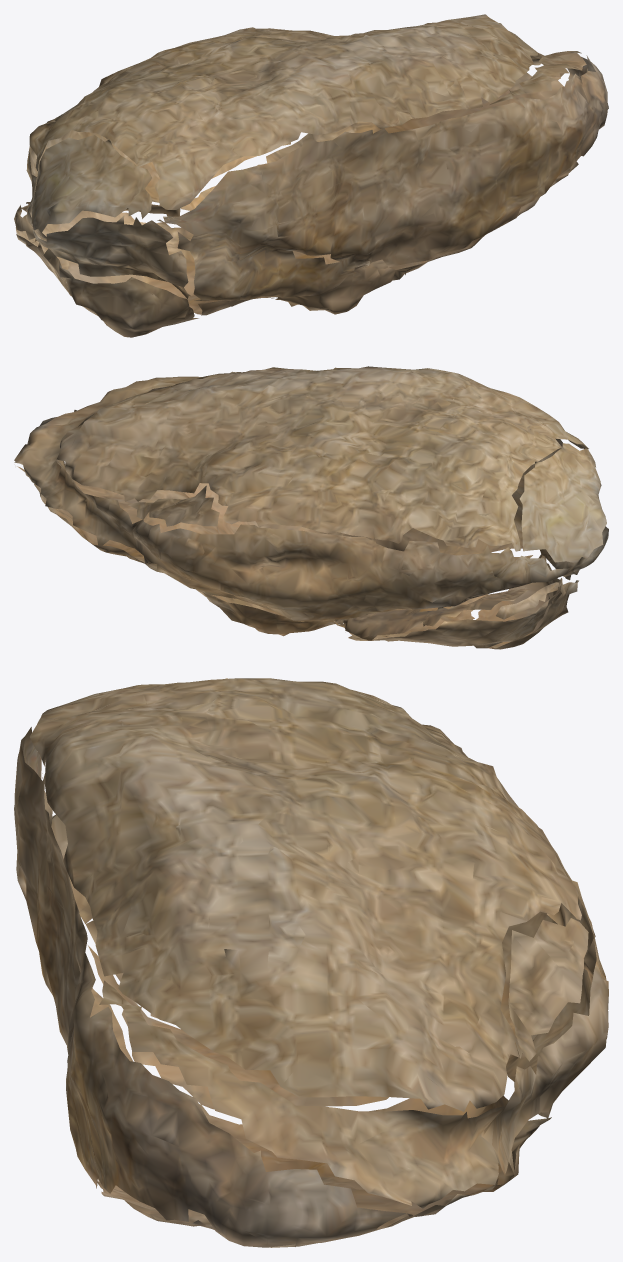
The model's file is namaqualand-boulder-05.glb.
3 views of the same model, one above another, from view 1: azimuth 30°, elevation 25°; view 2: azimuth 150°, elevation 25°; view 3: azimuth 270°, elevation 25° (orthographic). The views are drawn at different scales.
Parts seen in each view (by area): view 1: namaqualand_boulder_05; view 2: namaqualand_boulder_05; view 3: namaqualand_boulder_05.
Part boxes in pixels (<box>): namaqualand_boulder_05: <box>14,14,608,337</box>; namaqualand_boulder_05: <box>14,366,608,649</box>; namaqualand_boulder_05: <box>14,678,608,1247</box>.
Bounding box in the file's own units: 1.36 × 0.5256 × 0.7386.
1 material, 1 textured.
